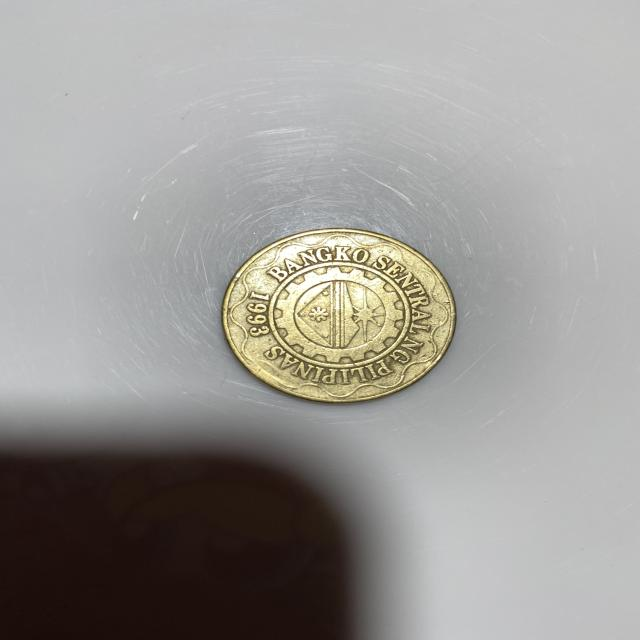5_Old_Back: (227, 230, 448, 399)
